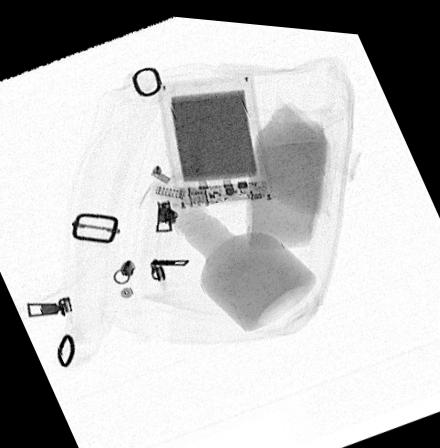Powerbank: (159, 68, 273, 206)
